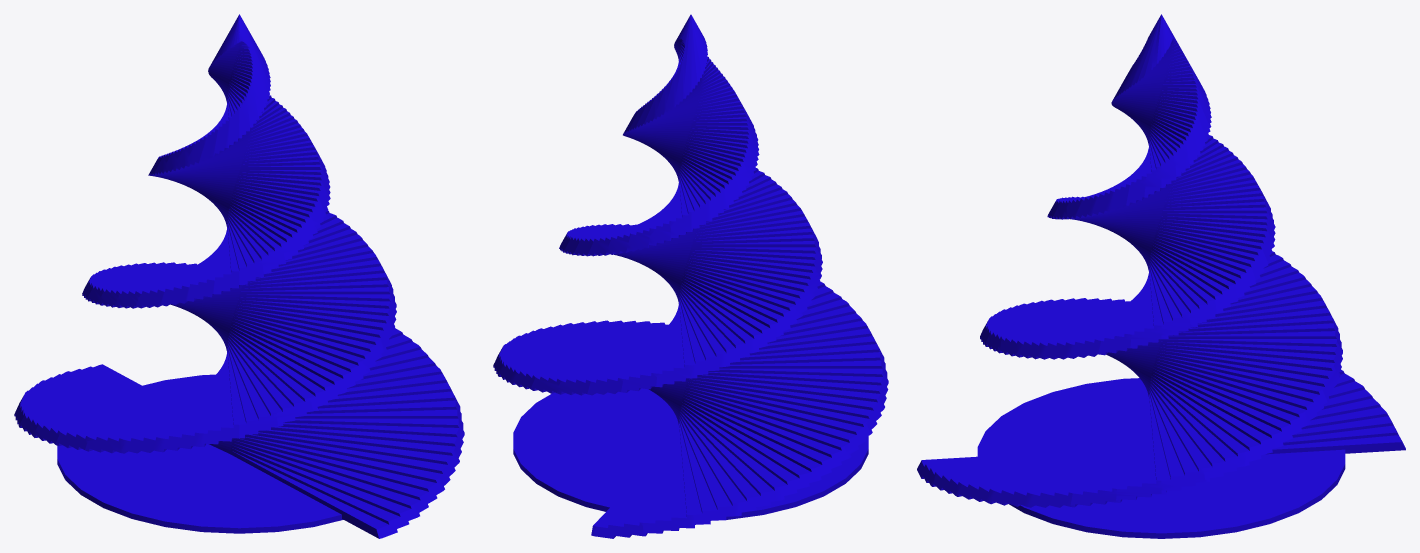
File: azulito.gltf
The picture shows the model from 3 angles, left to right: view 1: azimuth 30°, elevation 25°; view 2: azimuth 150°, elevation 25°; view 3: azimuth 270°, elevation 25°; orthographic projection. The views are drawn at different scales.
Parts seen in each view (by area): view 1: Mesh_0; view 2: Mesh_0; view 3: Mesh_0.
Part boxes in pixels (x1,y1,x2,y2): Mesh_0: (14, 14, 464, 538); Mesh_0: (493, 14, 888, 538); Mesh_0: (917, 14, 1405, 538).
Bounding box in the file's own units: 6.99 × 8 × 7.93.
